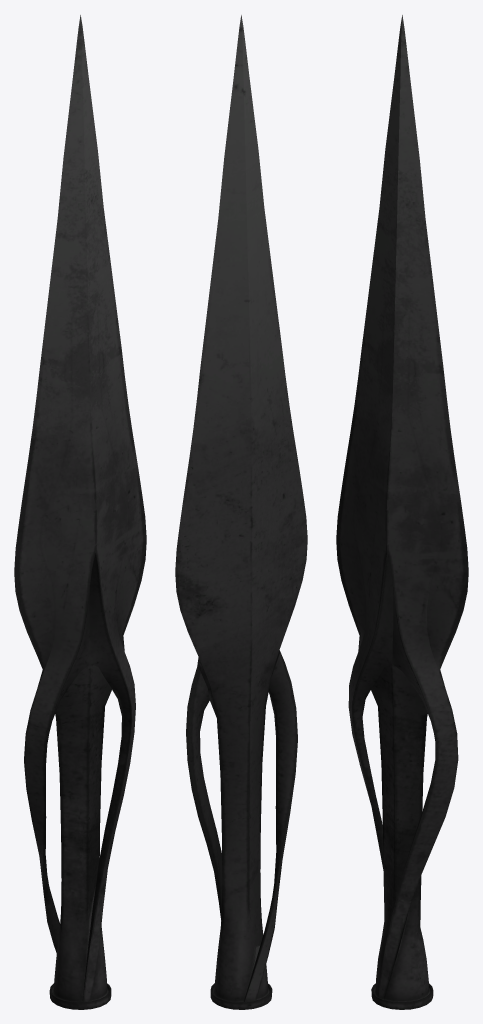
File: wm_rivendell_spear_a01_black_blade.fbx
3 renders of one model, left to right at view 1: azimuth 30°, elevation 25°; view 2: azimuth 210°, elevation 25°; view 3: azimuth 330°, elevation 25°, orthographic.
Parts seen in each view (by area): view 1: wm_rivendell_spear_a01_black_blade; view 2: wm_rivendell_spear_a01_black_blade; view 3: wm_rivendell_spear_a01_black_blade.
Part boxes in pixels (x1,y1,x2,y2): wm_rivendell_spear_a01_black_blade: (14,15,146,1009); wm_rivendell_spear_a01_black_blade: (175,15,307,1009); wm_rivendell_spear_a01_black_blade: (336,15,468,1009).
Size of the model in its own units: 0.081 by 0.0329 by 0.5737.
Materials: 1 (1 with a texture image).
